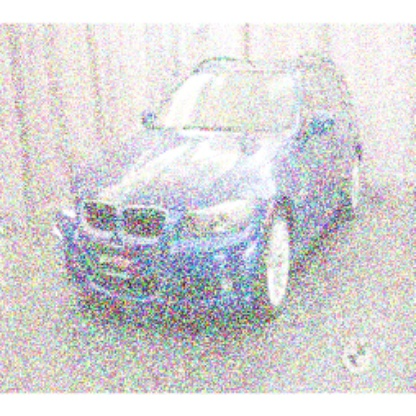Vehicle: (54, 53, 364, 324)
